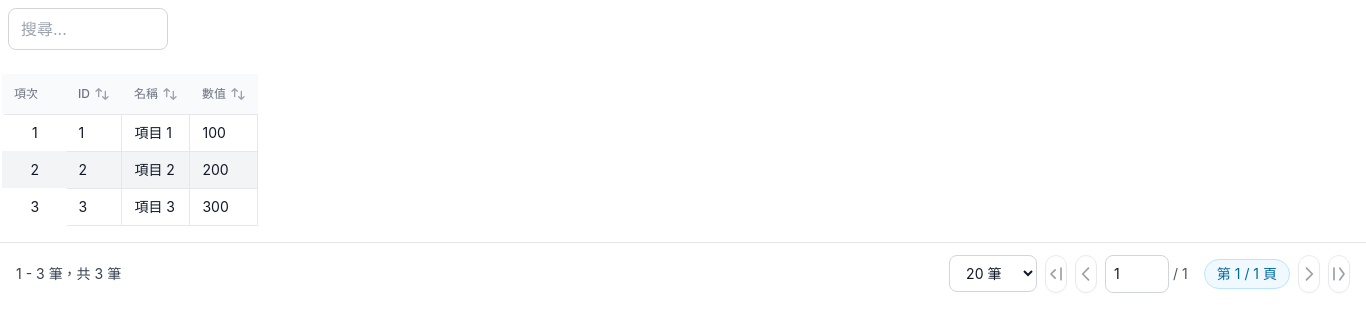
Scenario: DataTable › 應該支援搜尋
Type "項目 1" into the field with placeholder "搜尋..." at (88, 29), box left=8, top=8, right=168, bottom=50
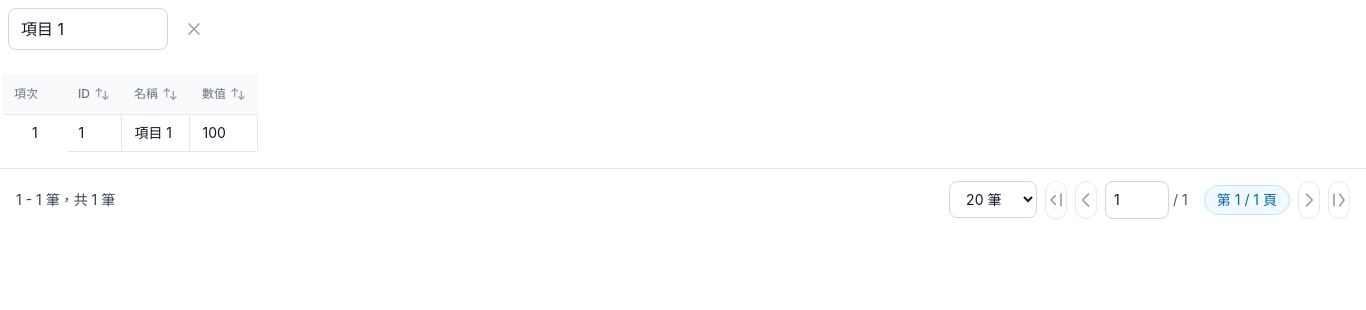
expect the text "項目 1" is shown: met, box left=122, top=114, right=190, bottom=151
expect the text "項目 2" is gone: met
